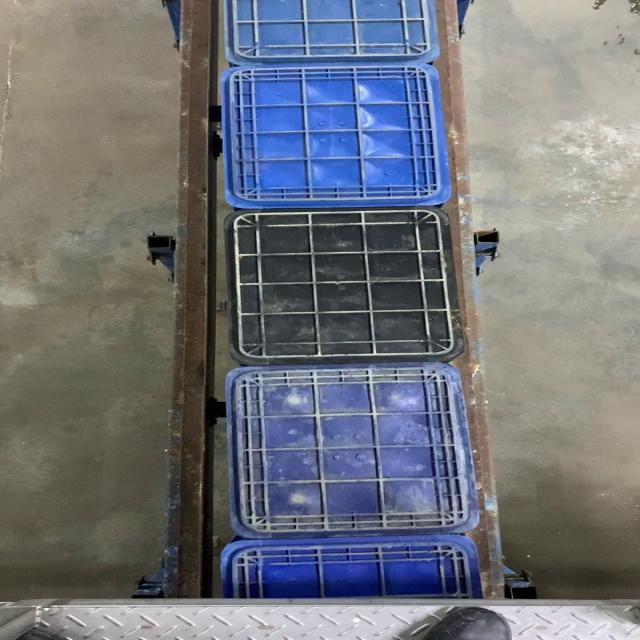Box: (223, 367, 482, 540), (224, 207, 471, 366), (218, 62, 450, 206)
